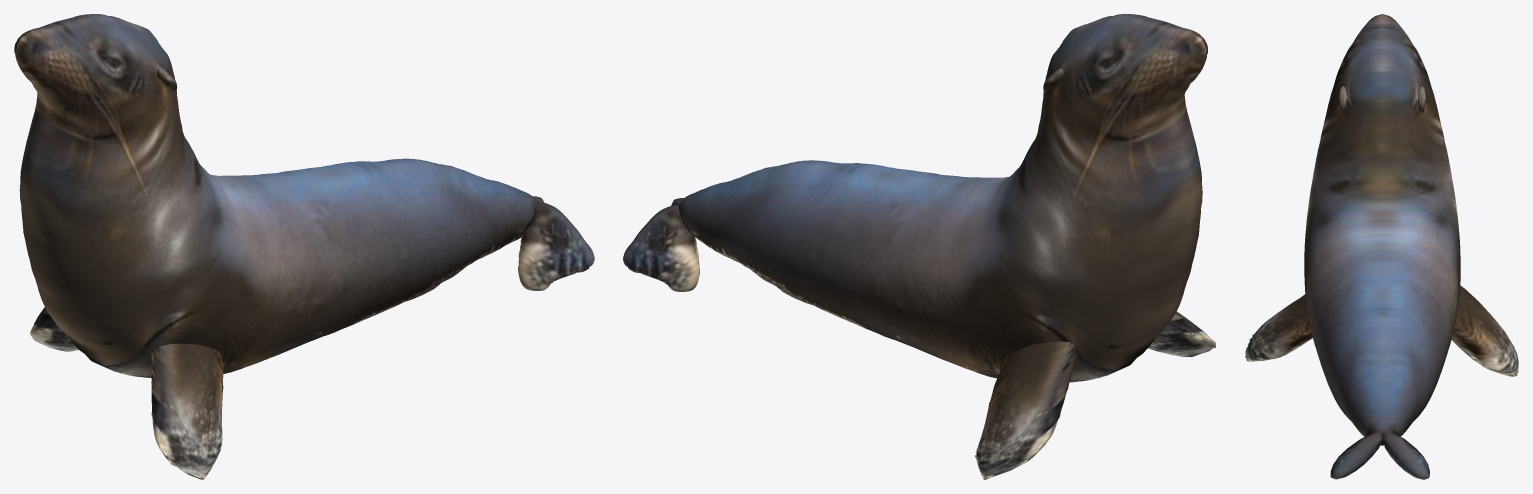
Rendered from sea-lion.glb.
3 renders of one model, left to right at view 1: azimuth 30°, elevation 25°; view 2: azimuth 150°, elevation 25°; view 3: azimuth 270°, elevation 25°, orthographic. The views are drawn at different scales.
Parts seen in each view (by area): view 1: mm_frame (31); view 2: mm_frame (31); view 3: mm_frame (31).
Boxes of the visible parts, <box> form: mm_frame (31): <box>14,14,594,479</box>; mm_frame (31): <box>623,14,1216,479</box>; mm_frame (31): <box>1245,14,1518,479</box>.
Bounding box in the file's own units: 6.12 × 4.33 × 3.39.
Materials: 1 (1 with a texture image).
